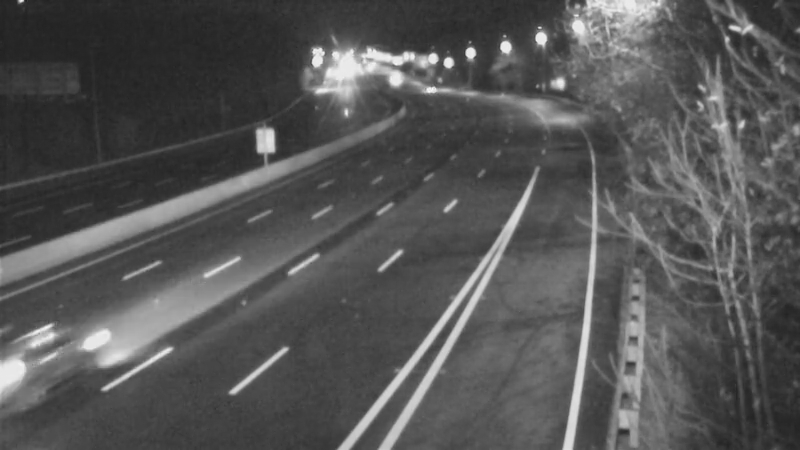vehicle: (1, 302, 105, 412), (364, 53, 414, 103), (405, 64, 455, 114)
